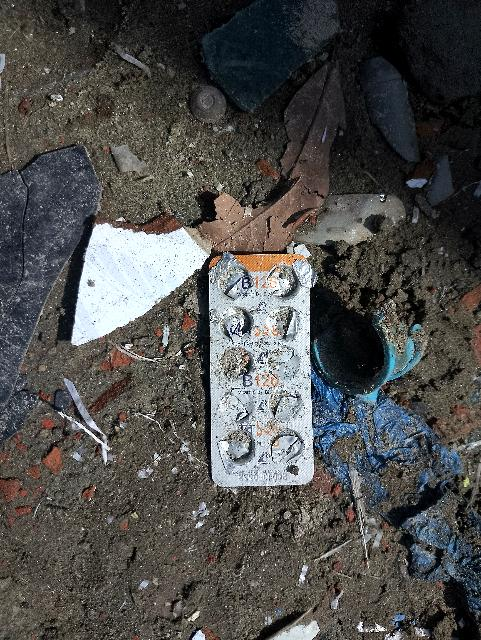medicine: (202, 243, 334, 501)
